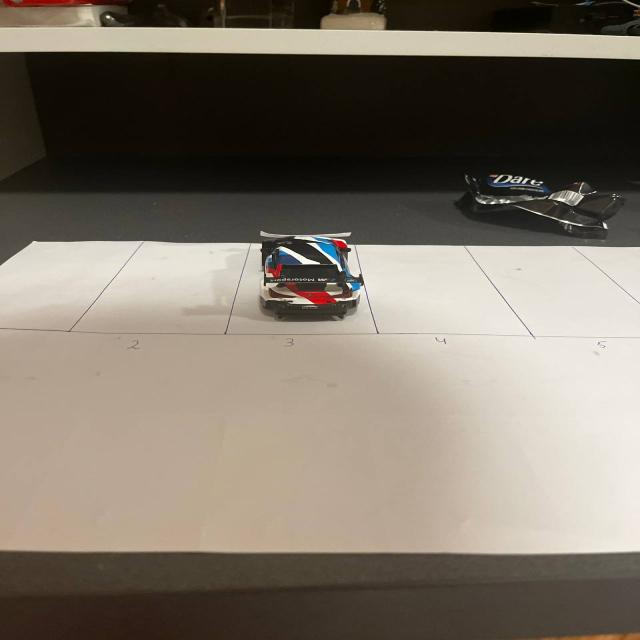cars: (228, 228, 387, 335)
